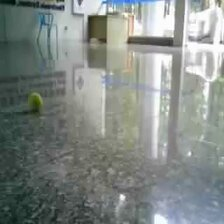tennis: (27, 92, 43, 110)
